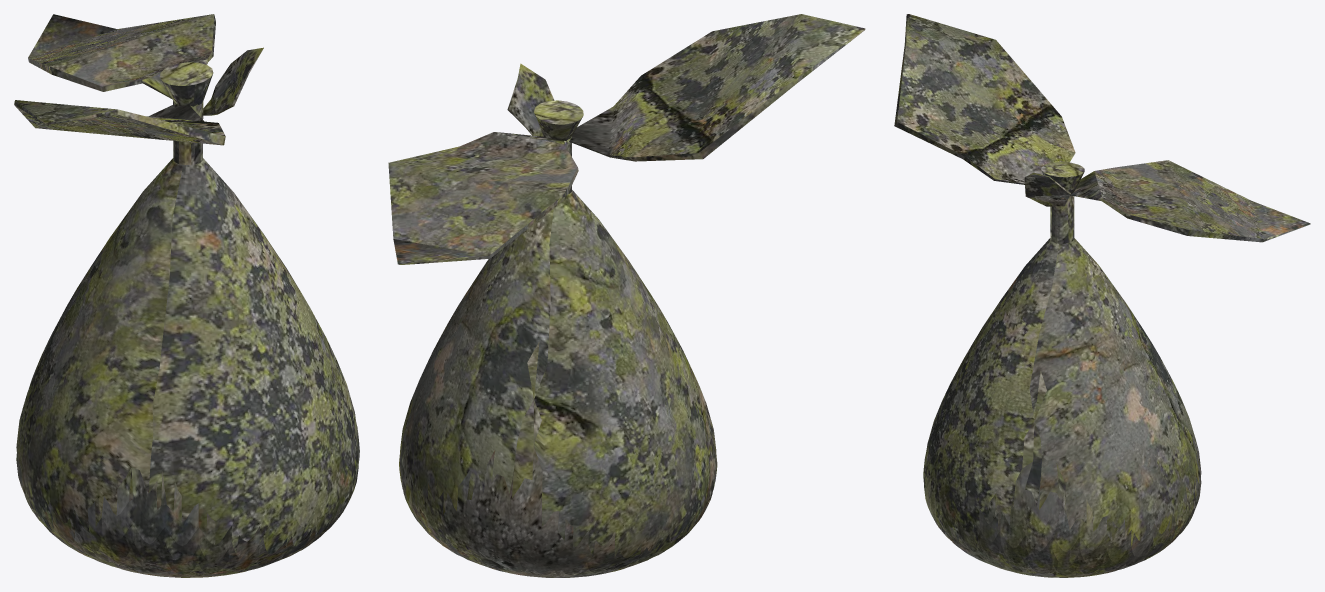
The model's file is Seed-Model-Webp.glb.
The picture shows the model from 3 angles, left to right: view 1: azimuth 30°, elevation 25°; view 2: azimuth 150°, elevation 25°; view 3: azimuth 270°, elevation 25°; orthographic projection. The views are drawn at different scales.
Parts seen in each view (by area): view 1: Cube.008; view 2: Cube.008; view 3: Cube.008.
Part boxes in pixels (x1,y1,x2,y2): Cube.008: (14,14,359,577); Cube.008: (388,14,865,577); Cube.008: (894,14,1310,577).
Size of the model in its own units: 5.24 by 7.32 by 6.05.
Materials: 1 (1 with a texture image).
